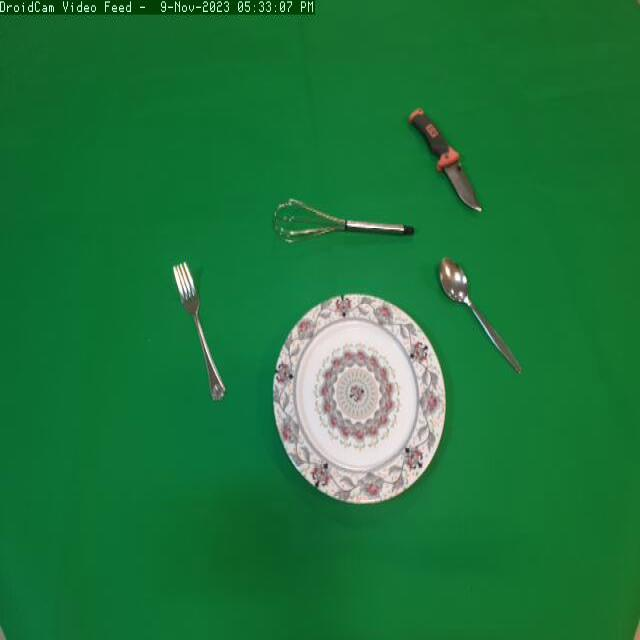fork: (170, 256, 242, 412)
knife: (406, 96, 489, 221)
plate: (260, 284, 457, 520)
spoon: (434, 254, 528, 379)
whisk: (265, 188, 421, 258)
